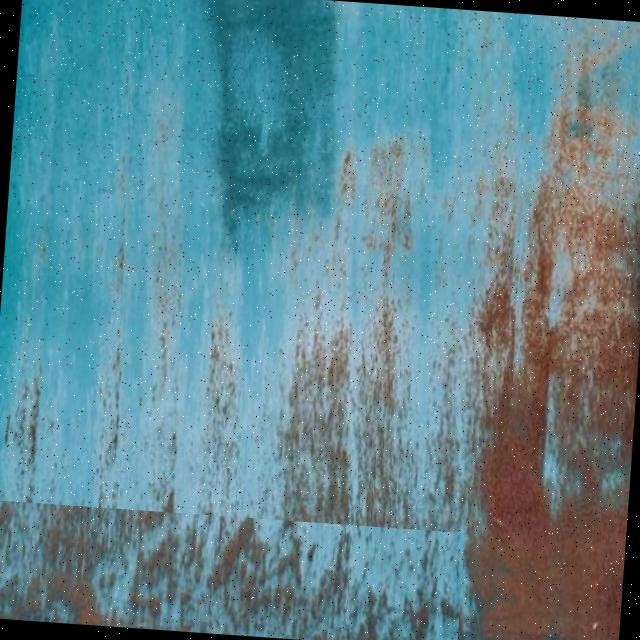Corrosion: (0, 0, 640, 640), (445, 13, 640, 640)
